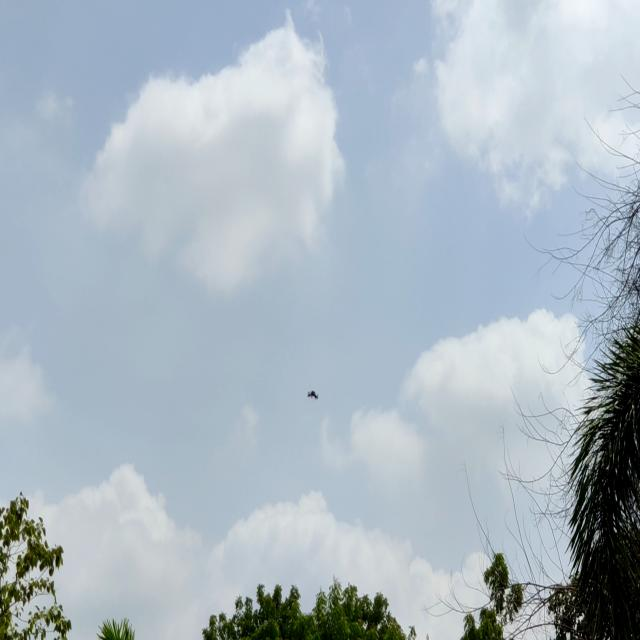drone: (302, 386, 322, 403)
